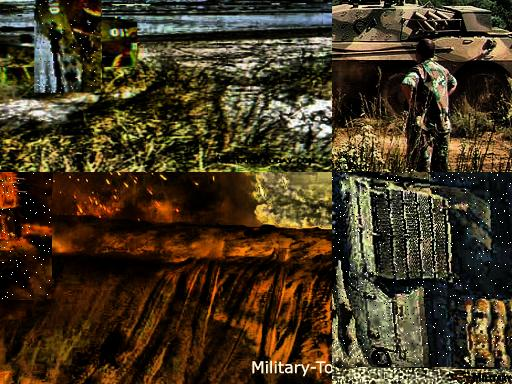tanks: (333, 173, 512, 368), (333, 1, 512, 114), (37, 1, 101, 94), (1, 180, 53, 274)
